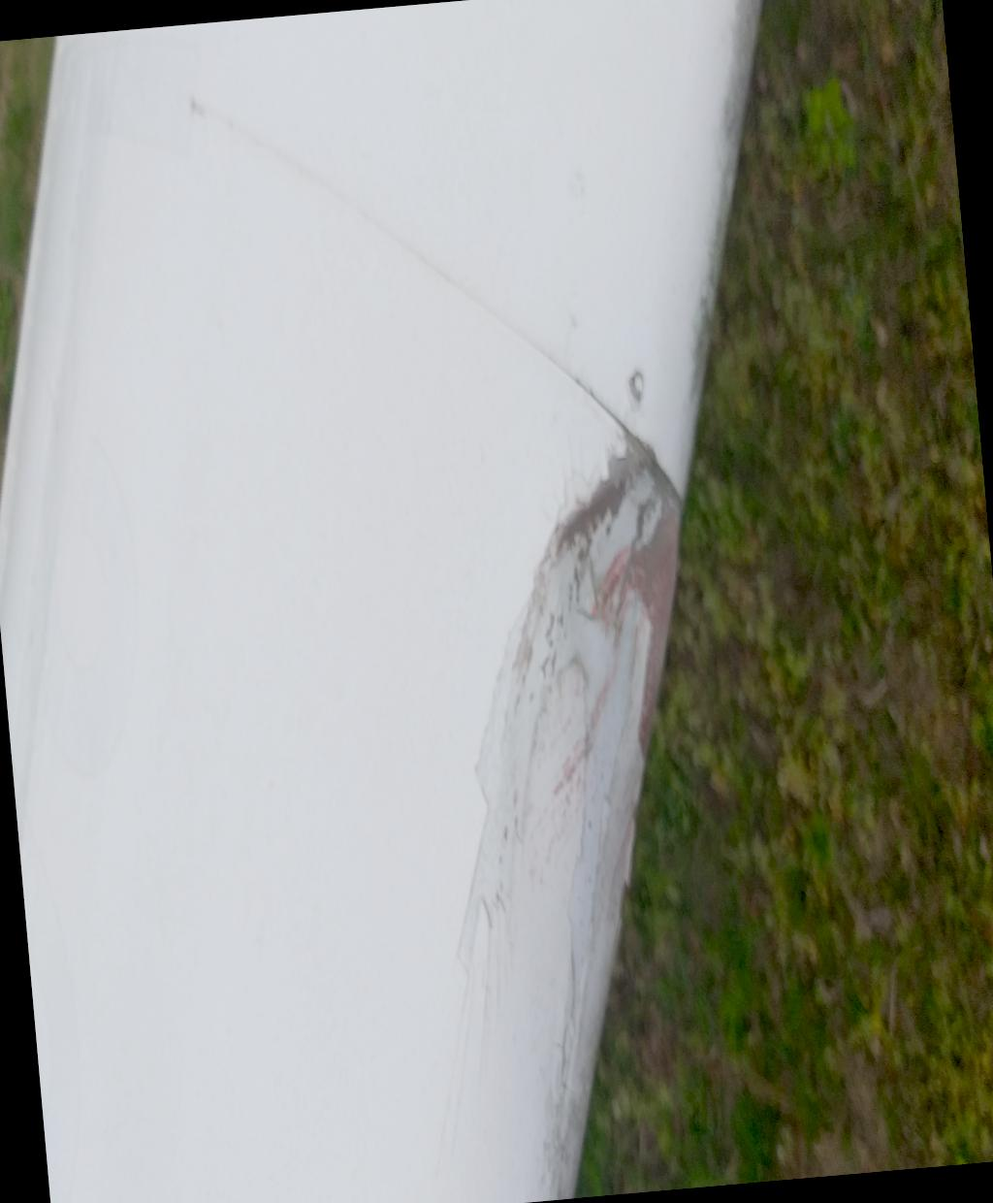corrosion: (172, 1028, 390, 1203)
